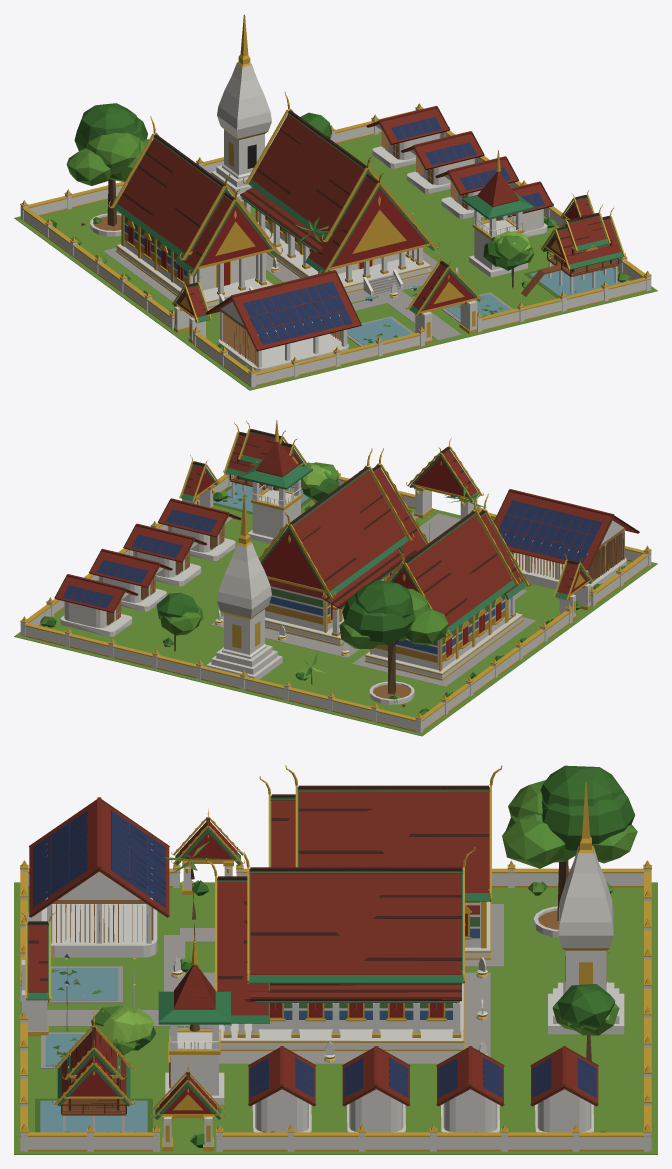
Rendered from temple_3.glb.
3 renders of one model, top to bottom at view 1: azimuth 30°, elevation 25°; view 2: azimuth 150°, elevation 25°; view 3: azimuth 270°, elevation 25°, orthographic. The views are drawn at different scales.
Visible parts, largest first — view 1: body; view 2: body; view 3: body.
Part boxes in pixels (x1,y1,x2,y2): body: [14, 14, 657, 390]; body: [14, 420, 657, 736]; body: [14, 765, 657, 1154].
Bounding box in the file's own units: 47.9 × 19.64 × 47.9.
